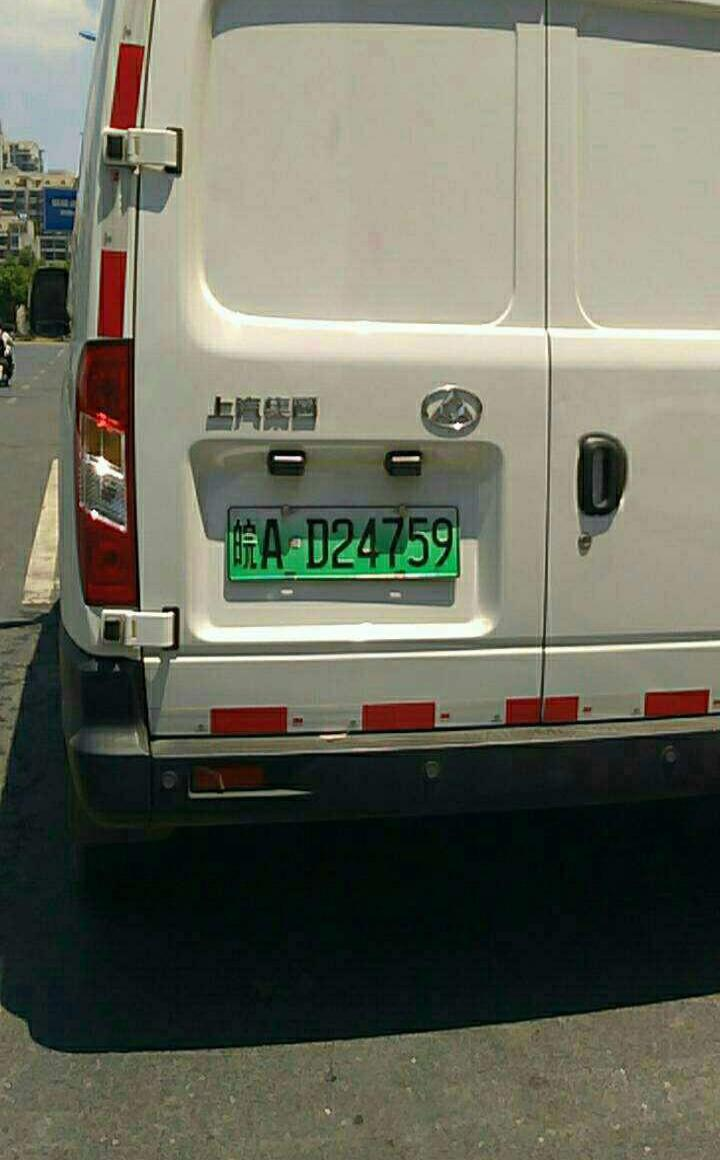car_id: (228, 506, 460, 577)
